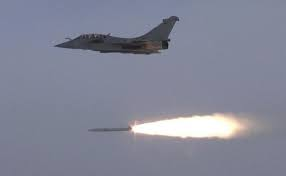maybay_muctieu: (55, 13, 180, 55)
ten_lua: (85, 119, 136, 137)
